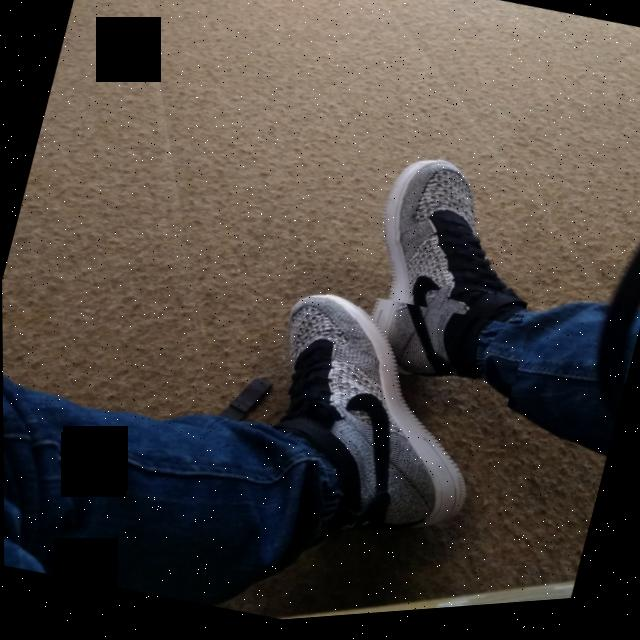shoe: (215, 269, 529, 587), (327, 140, 560, 431)
